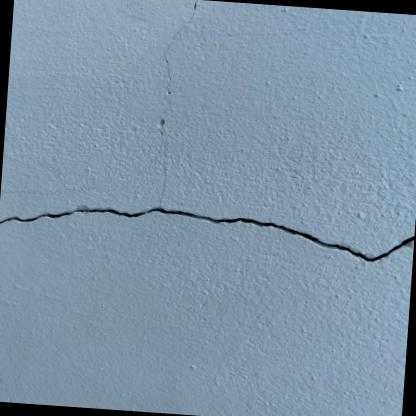crack: (0, 207, 415, 261)
